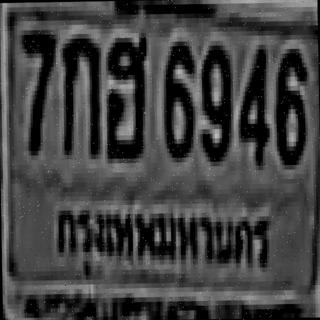A01: (60, 29, 98, 155)
A44: (103, 30, 145, 156)
N04: (238, 42, 266, 163)
N06: (160, 36, 193, 153), (273, 44, 306, 160)
N07: (19, 25, 55, 151)
N09: (198, 40, 230, 157)
P04: (49, 197, 274, 289)
